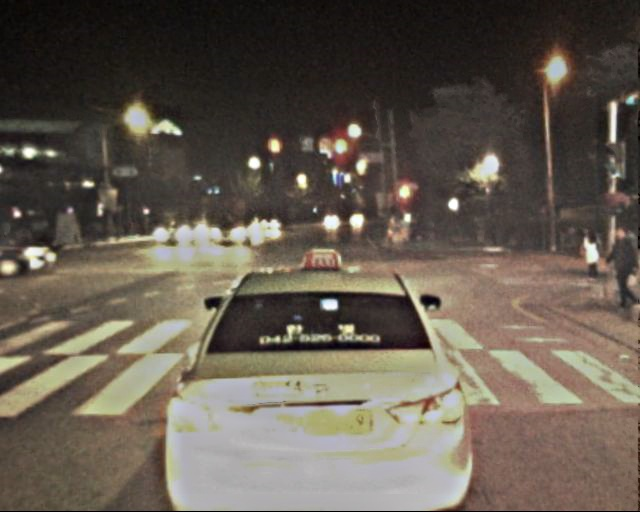person: (606, 230, 640, 316), (617, 227, 639, 285), (580, 228, 602, 281), (412, 215, 442, 244), (2, 216, 23, 242)
